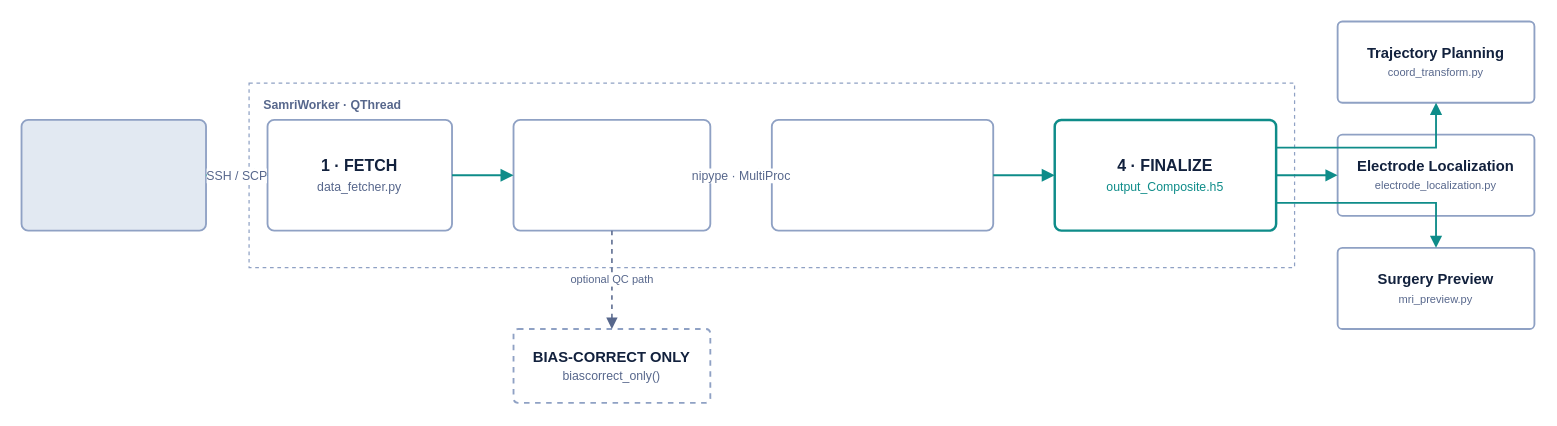
Some shapes in this 1557 by 426 pixel diagram are drawn without their labels. The centre of each missing label's shape, as x and y in pixels:
"2 · CONVERT bru2bids()" goes at point (611, 174).
"3 · BIAS + REGISTER structural() · ANTs SyN" goes at point (882, 174).
"BRUKER HOST PV6.0.1/data/mri/" goes at point (113, 174).
